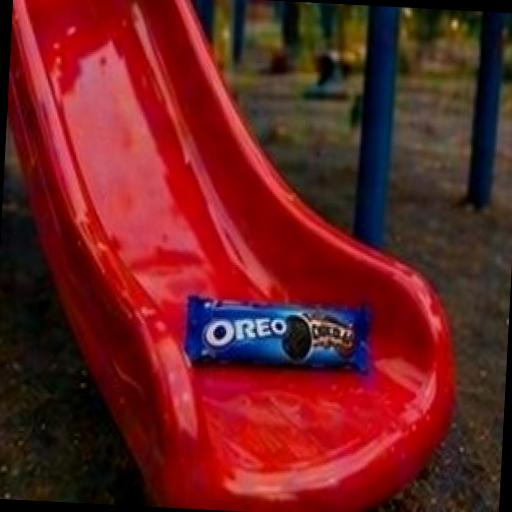oreo: (140, 240, 410, 426)
